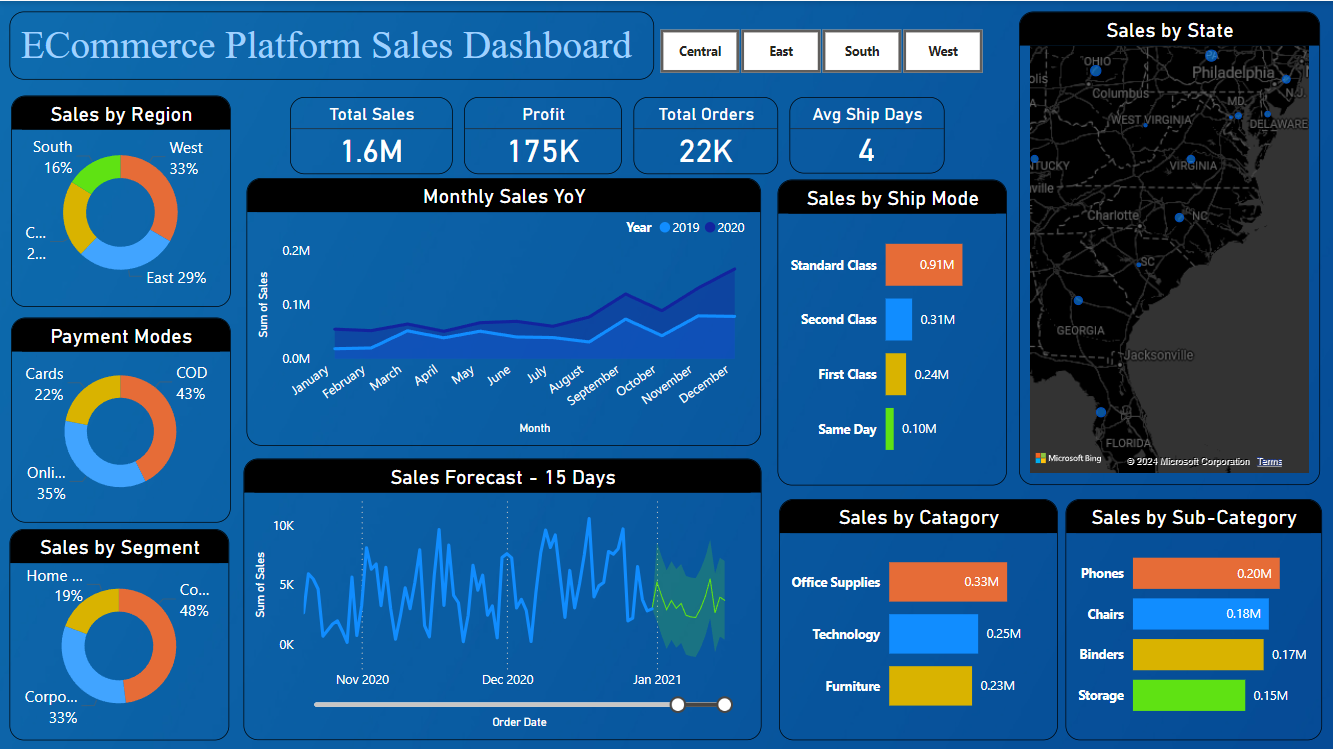

This screenshot's page, from the dashboard's own definition file:
{"tool":"powerbi","page":{"name":"Page 1","canvas":[1280,720],"ordinal":0},"visuals":[{"type":"clusteredBarChart","title":"Sales by Catagory","fields":{"Y":["Sum(Sheet1.Sales)"],"Category":["Sheet1.Category"]},"box":[747.1,477.1,267.1,231.4],"z":0},{"type":"clusteredBarChart","title":"Sales by Sub-Category","fields":{"Category":["Sheet1.Sub-Category"],"Y":["Sum(Sheet1.Sales)"]},"box":[1022.9,477.1,245.7,231.4],"z":1000},{"type":"clusteredBarChart","title":"Sales by Ship Mode","fields":{"Category":["Sheet1.Ship Mode"],"Y":["Sum(Sheet1.Sales)"]},"box":[746.7,171.7,220,293.3],"z":2000},{"type":"areaChart","title":"Monthly Sales YoY","fields":{"Category":["Sheet1.Order Date.Variation.Date Hierarchy.Month"],"Y":["Sum(Sheet1.Sales)"],"Series":["Sheet1.Order Date.Variation.Date Hierarchy.Year"]},"box":[236.7,170,493.3,256.7],"z":3000},{"type":"lineChart","title":"Sales Forecast - 15 Days","fields":{"Category":["Sheet1.Order Date"],"Y":["Sum(Sheet1.Sales)"]},"box":[235,438.3,496.7,270],"z":4000},{"type":"map","title":"Sales by State","fields":{"Category":["Sheet1.State"],"Size":["Sum(Sheet1.Sales)"]},"box":[978.6,10,288.6,454.3],"z":5000},{"type":"slicer","fields":{"Values":["Sheet1.Region"]},"box":[608.6,20,358.6,55.7],"z":6000},{"type":"donutChart","title":"Sales by Segment","fields":{"Category":["Sheet1.Segment"],"Y":["Sum(Sheet1.Sales)"]},"box":[10.6,505.7,210.5,202.9],"z":7000},{"type":"donutChart","title":"Payment Modes","fields":{"Y":["Sum(Sheet1.Sales)"],"Category":["Sheet1.Payment Mode"]},"box":[12.1,302.8,210.5,196.8],"z":8000},{"type":"donutChart","title":"Sales by Region","fields":{"Y":["Sum(Sheet1.Sales)"],"Category":["Sheet1.Region"]},"box":[12.1,90.9,210.5,202.9],"z":9000},{"type":"textbox","box":[10.6,10.6,617.8,65.1],"z":10000},{"type":"card","title":"Profit","fields":{"Values":["Sum(Sheet1.Profit)"]},"box":[445.7,91.4,151.4,74.3],"z":11000},{"type":"card","title":"Total Sales","fields":{"Values":["Sum(Sheet1.Sales)"]},"box":[278.6,91.4,155.7,74.3],"z":12000},{"type":"card","title":"Total Orders","fields":{"Values":["Sum(Sheet1.Quantity)"]},"box":[608.6,91.4,138.6,74.3],"z":13000},{"type":"card","title":"Avg Ship Days","fields":{"Values":["Avg(Sheet1.Avgshippingtime)"]},"box":[758.3,91.7,148.3,73.3],"z":14000}]}

Visuals, with their boxes in screenshot pixels (x1, y1, x2, y2), scaled from the page's 1280x720 canvas onto the 1333x749 screenshot:
"Sales by Catagory" clusteredBarChart: x1=778 y1=496 x2=1056 y2=737
"Sales by Sub-Category" clusteredBarChart: x1=1065 y1=496 x2=1321 y2=737
"Sales by Ship Mode" clusteredBarChart: x1=778 y1=179 x2=1007 y2=484
"Monthly Sales YoY" areaChart: x1=247 y1=177 x2=760 y2=444
"Sales Forecast - 15 Days" lineChart: x1=245 y1=456 x2=762 y2=737
"Sales by State" map: x1=1019 y1=10 x2=1320 y2=483
slicer - Sheet1.Region: x1=634 y1=21 x2=1007 y2=79
"Sales by Segment" donutChart: x1=11 y1=526 x2=230 y2=737
"Payment Modes" donutChart: x1=13 y1=315 x2=232 y2=520
"Sales by Region" donutChart: x1=13 y1=95 x2=232 y2=306
textbox: x1=11 y1=11 x2=654 y2=79
"Profit" card: x1=464 y1=95 x2=622 y2=172
"Total Sales" card: x1=290 y1=95 x2=452 y2=172
"Total Orders" card: x1=634 y1=95 x2=778 y2=172
"Avg Ship Days" card: x1=790 y1=95 x2=944 y2=172
